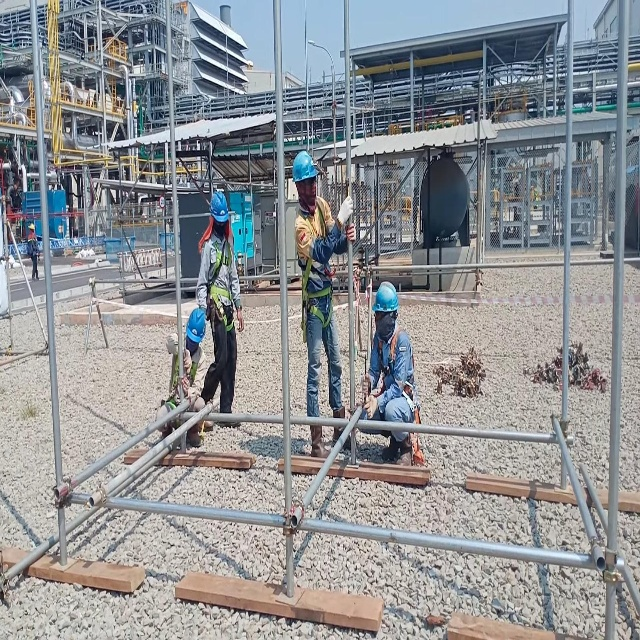Arnes_seguridad: (376, 329, 424, 469), (294, 201, 333, 337), (205, 234, 235, 334), (164, 345, 200, 422)
